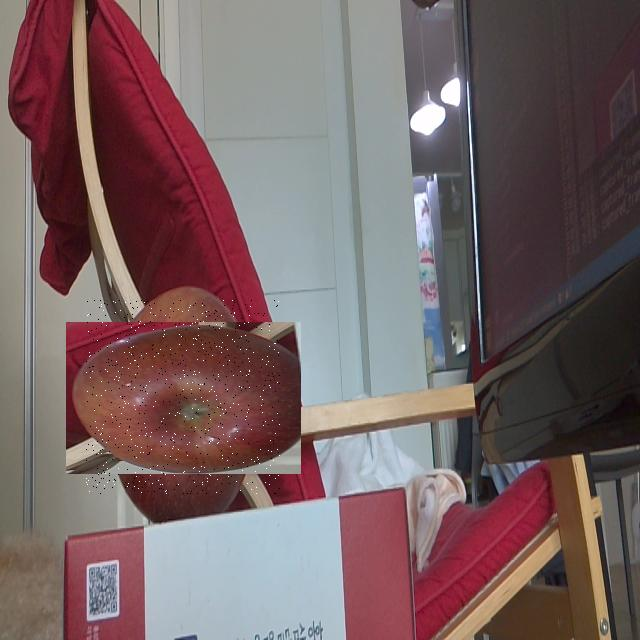apple: (87, 300, 280, 494)
